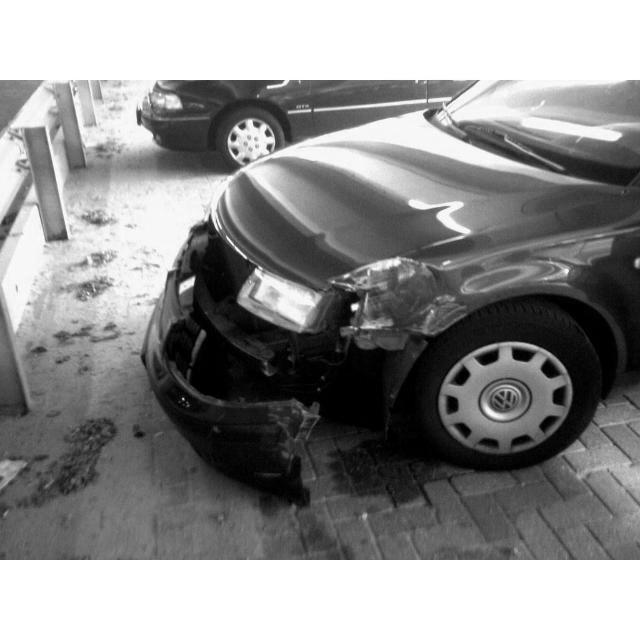fender-dent: (358, 236, 532, 356)
